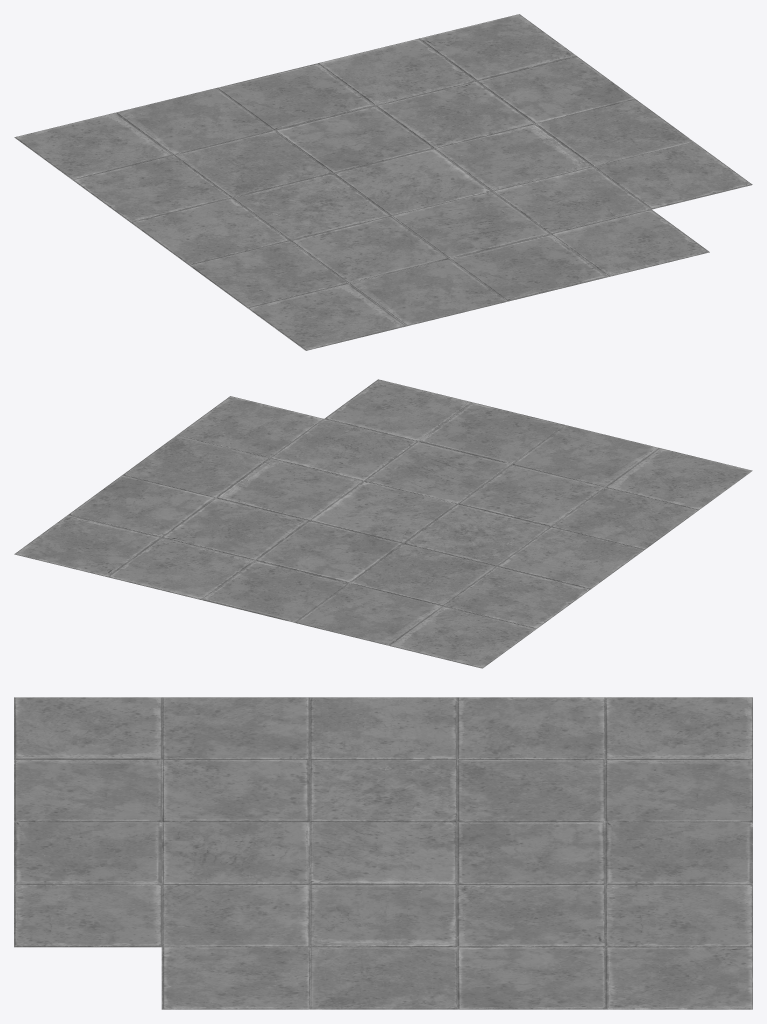
File: SM_Floor_Corner_01.fbx
3 renders of one model, top to bottom at view 1: azimuth 30°, elevation 25°; view 2: azimuth 150°, elevation 25°; view 3: azimuth 270°, elevation 25°, orthographic. The views are drawn at different scales.
Parts seen in each view (by area): view 1: SM_Floor_Corner_01; view 2: SM_Floor_Corner_01; view 3: SM_Floor_Corner_01.
Boxes of the visible parts, left/top/right/bottom form: SM_Floor_Corner_01: left=14, top=14, right=752, bottom=350; SM_Floor_Corner_01: left=14, top=379, right=752, bottom=668; SM_Floor_Corner_01: left=14, top=697, right=752, bottom=1009.
Size of the model in its own units: 500 by 0.3773 by 500.
